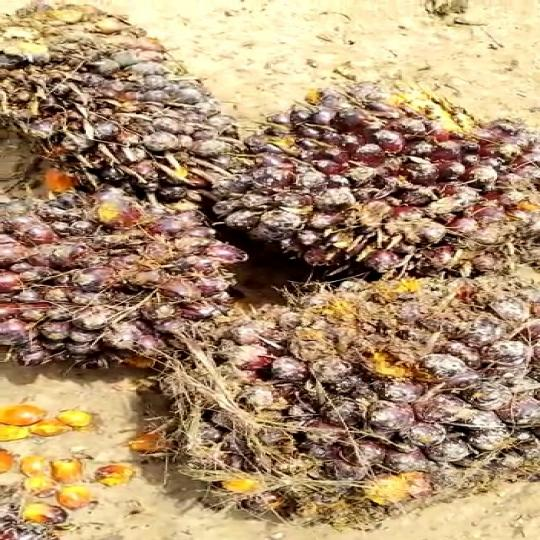kurang masak: (174, 268, 540, 524), (212, 90, 540, 278), (0, 176, 252, 393), (0, 0, 241, 190)
